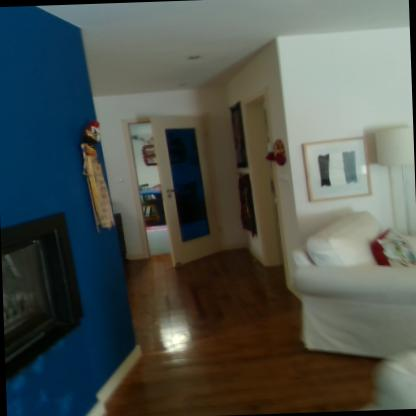semi: (122, 108, 212, 254)
